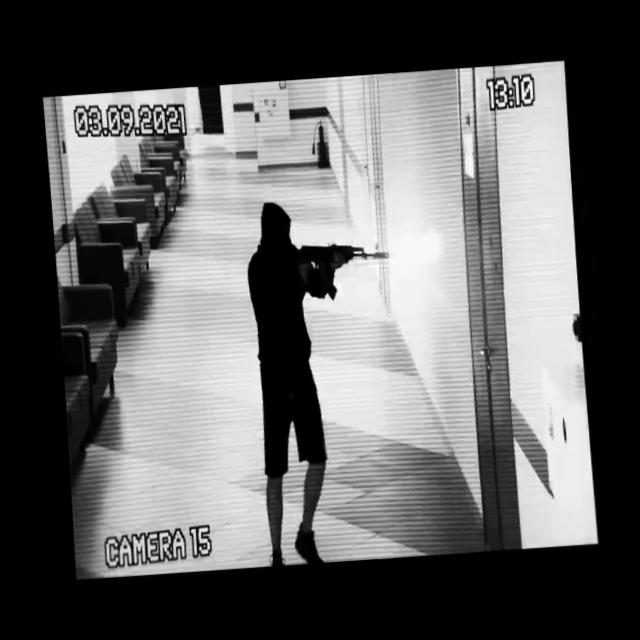gun: (272, 238, 392, 304)
person with a gun: (242, 193, 411, 565)
